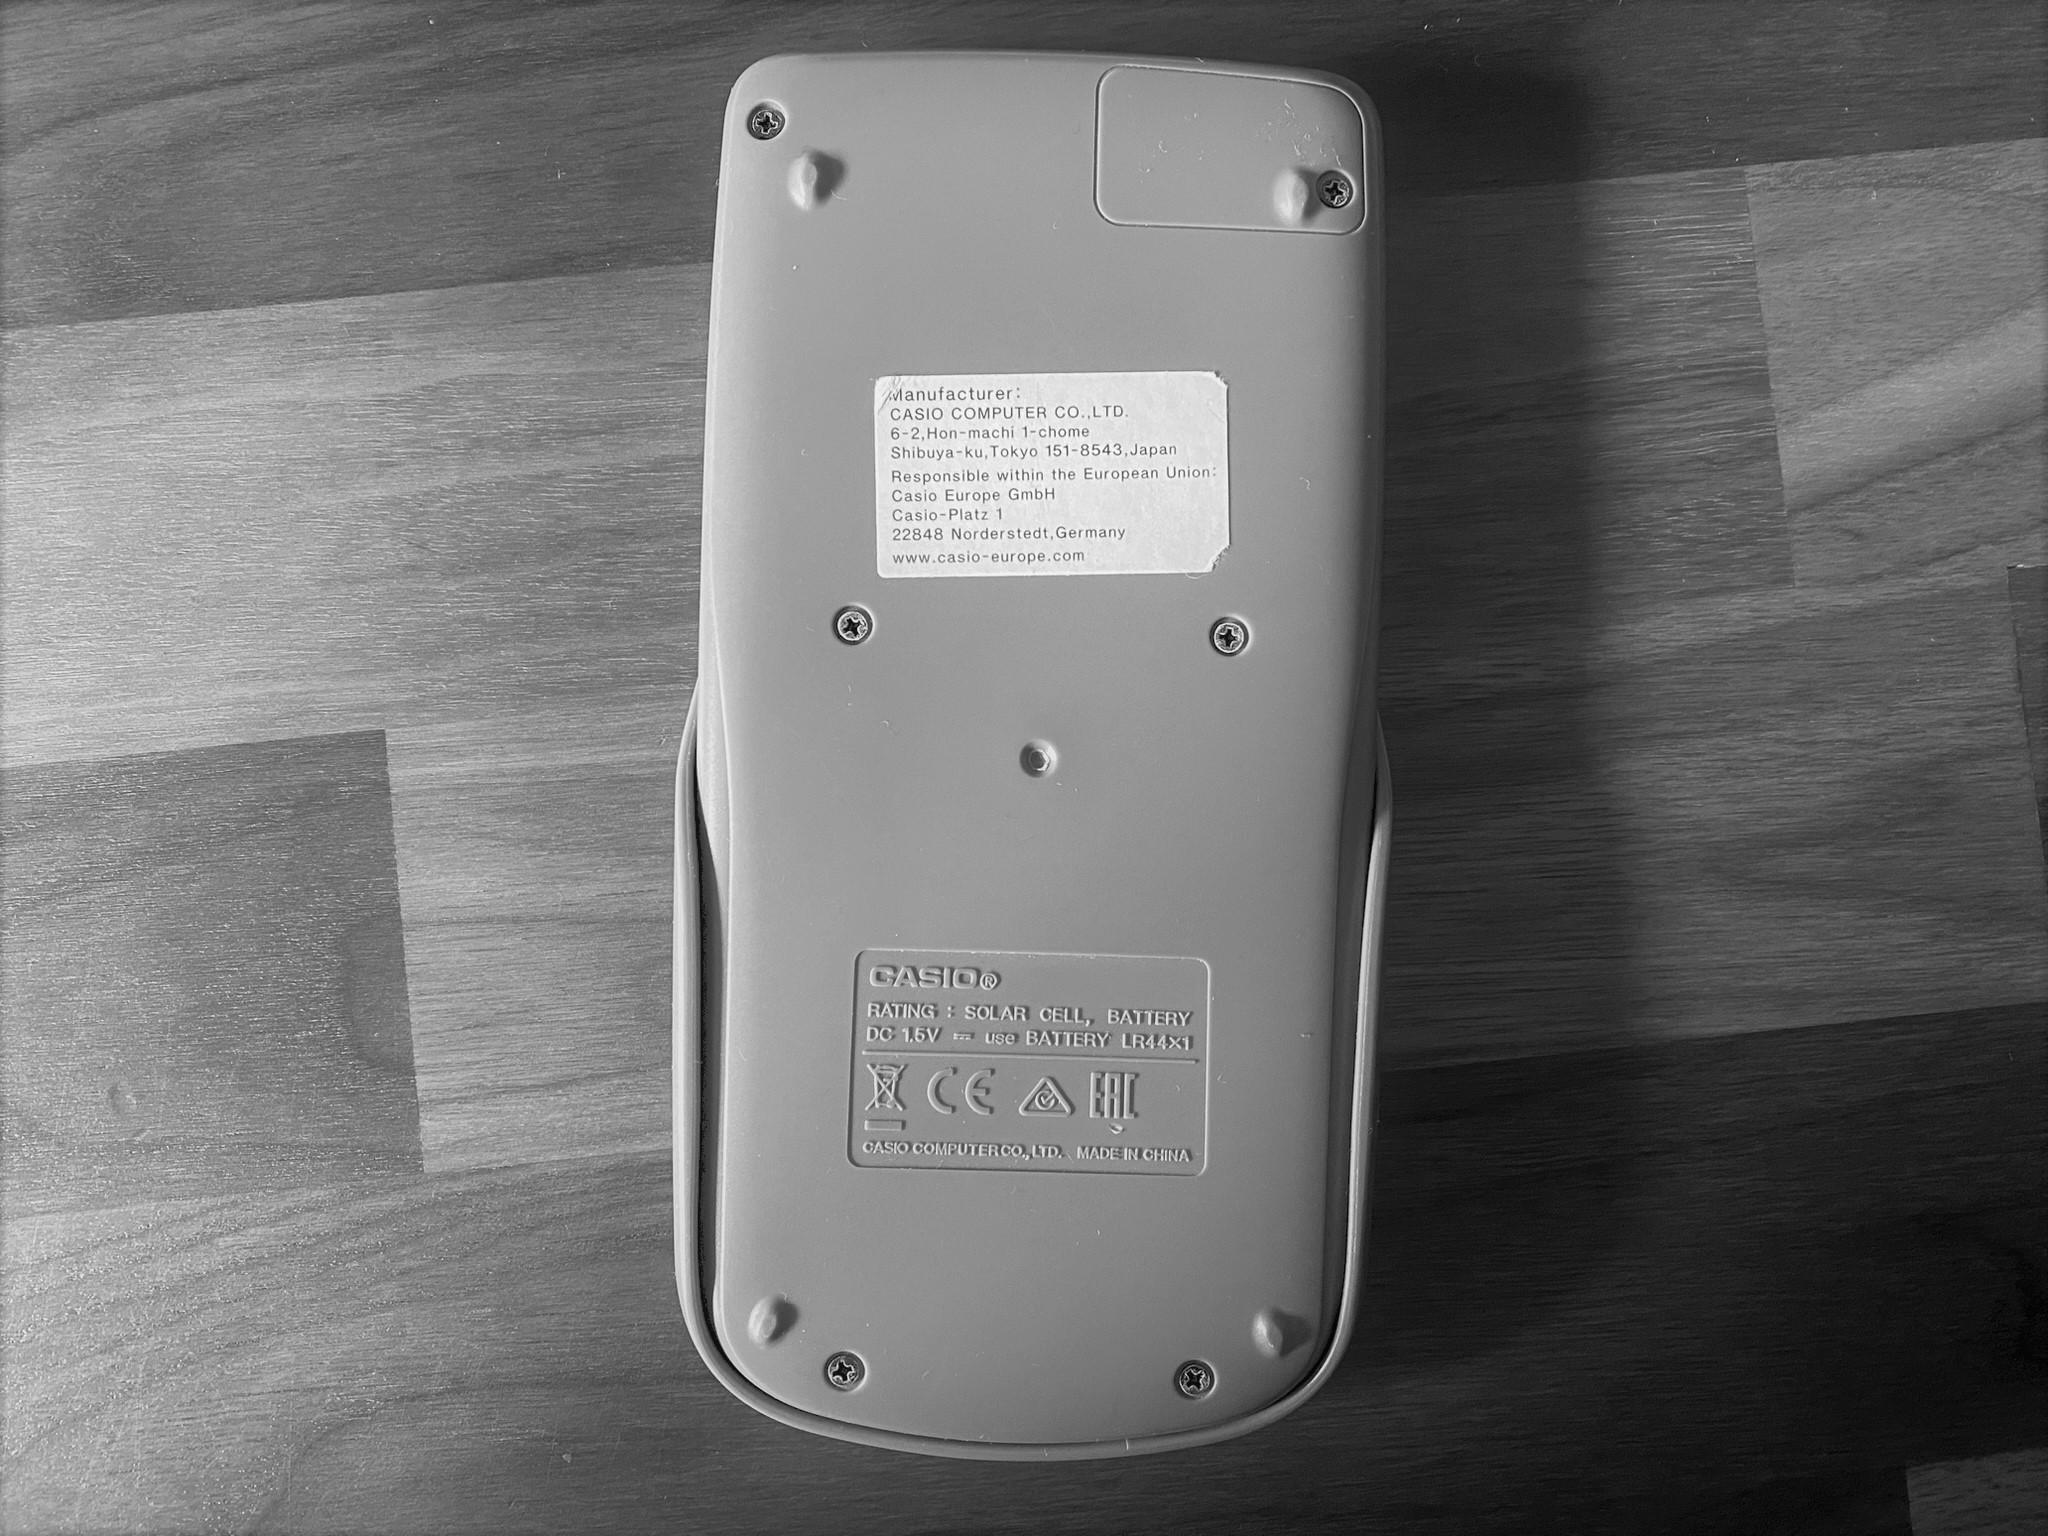PH: (1313, 166, 1356, 211), (1174, 1363, 1218, 1400), (745, 103, 785, 142), (826, 1352, 864, 1391), (1208, 620, 1248, 655), (835, 610, 871, 642)
